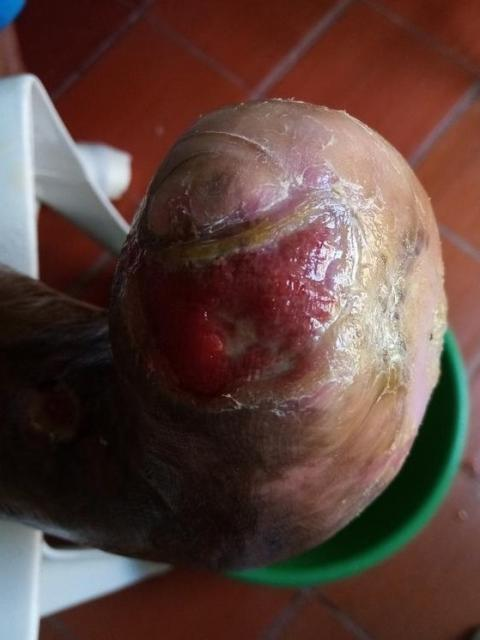wound: (123, 131, 388, 411)
